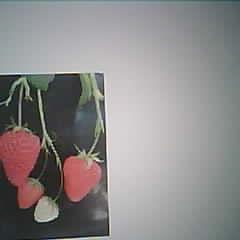straw-ripe: (0, 133, 40, 185), (65, 156, 102, 203), (18, 179, 44, 210)
straw-unripe: (35, 196, 60, 223)
